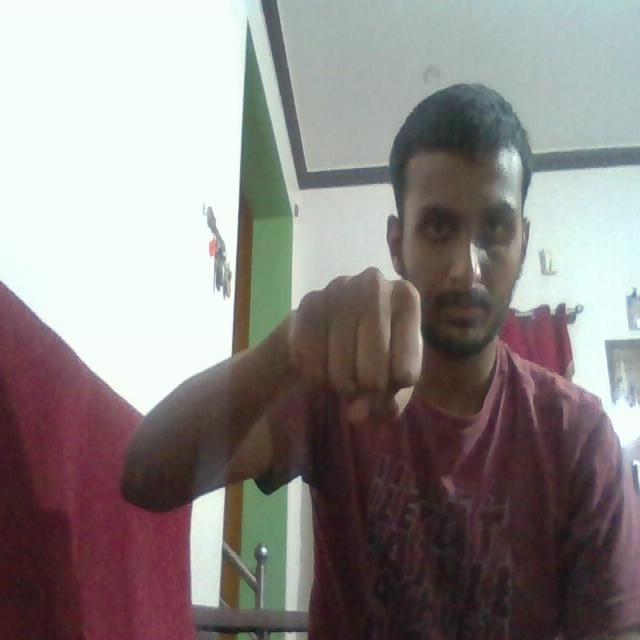yes: (283, 266, 438, 432)
